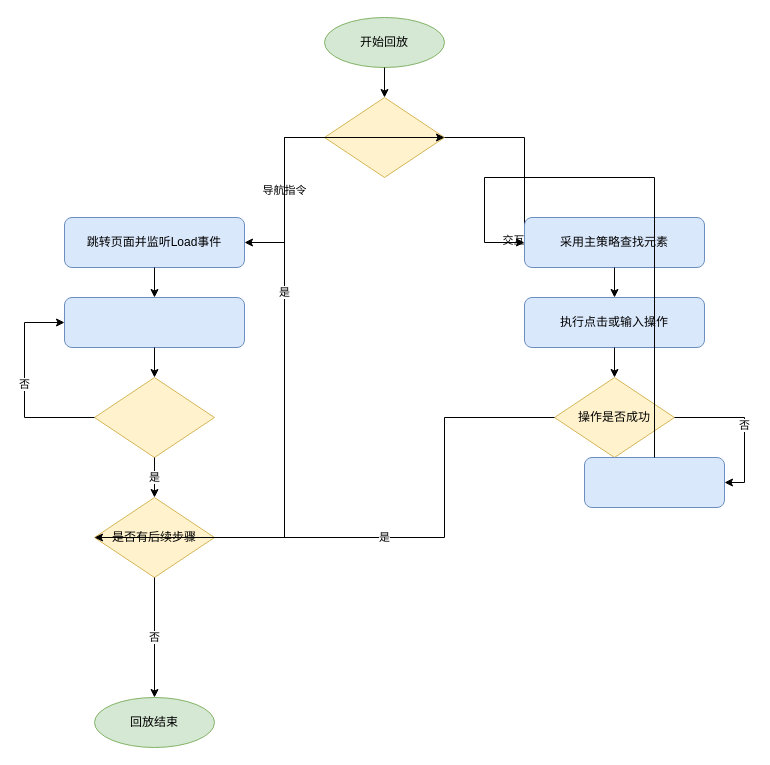
This 770x765 diagram has some shape labels left out. The centre of each missing label's shape, as x and y in pixels:
切换备用策略重试: point (654, 482)
判断操作类型: point (384, 137)
等待页面稳定状态: point (154, 322)
页面是否稳定: point (154, 417)
